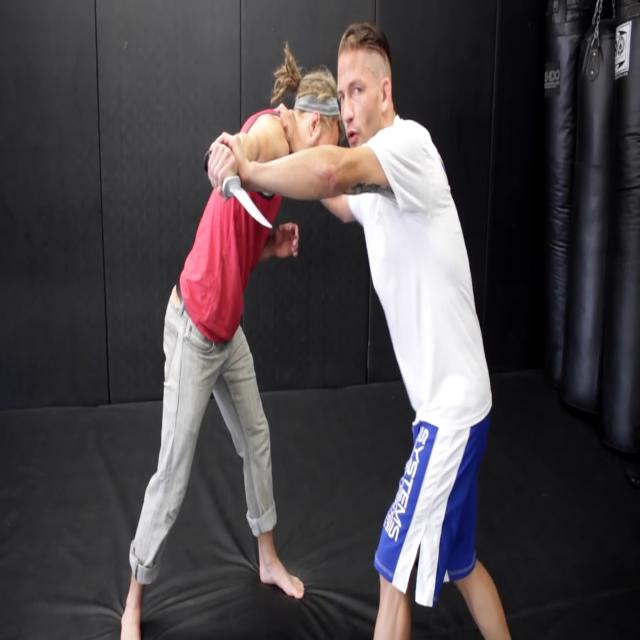knife: (225, 178, 275, 241)
